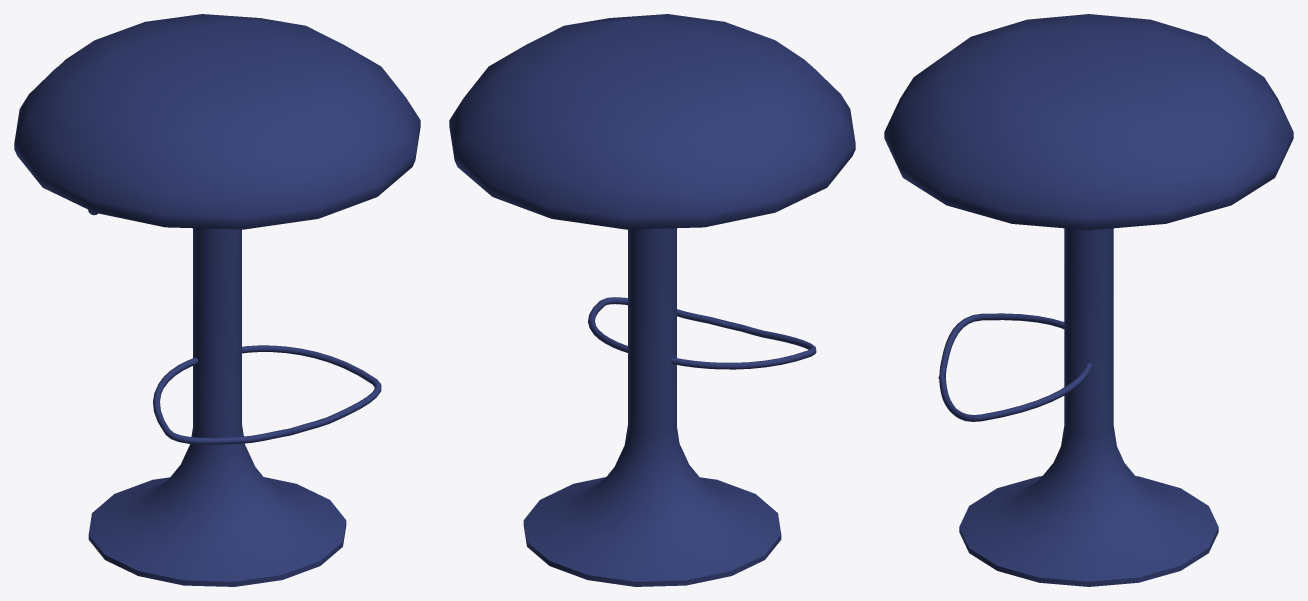
File: bar stool.fbx
3 views of the same model, side by side, from view 1: azimuth 30°, elevation 25°; view 2: azimuth 150°, elevation 25°; view 3: azimuth 270°, elevation 25° (orthographic).
Parts seen in each view (by area): view 1: Cube, BezierCurve; view 2: Cube, BezierCurve; view 3: Cube, BezierCurve.
Part boxes in pixels (left/top/right/bottom): Cube: left=14, top=14, right=420, bottom=586; BezierCurve: left=153, top=345, right=381, bottom=444; Cube: left=449, top=14, right=855, bottom=586; BezierCurve: left=588, top=297, right=816, bottom=369; Cube: left=884, top=14, right=1293, bottom=586; BezierCurve: left=938, top=313, right=1092, bottom=421.
Size of the model in its own units: 1.06 by 1.35 by 1.06.
